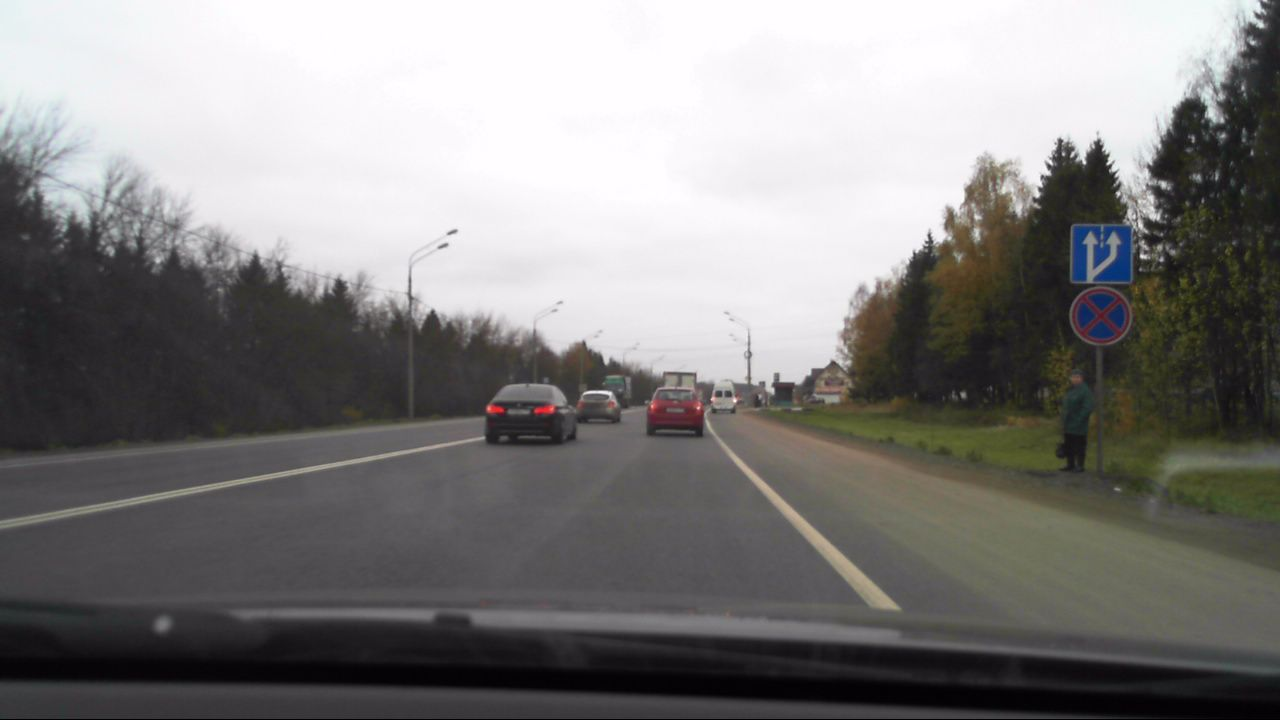No Parking: (1068, 285, 1134, 349)
